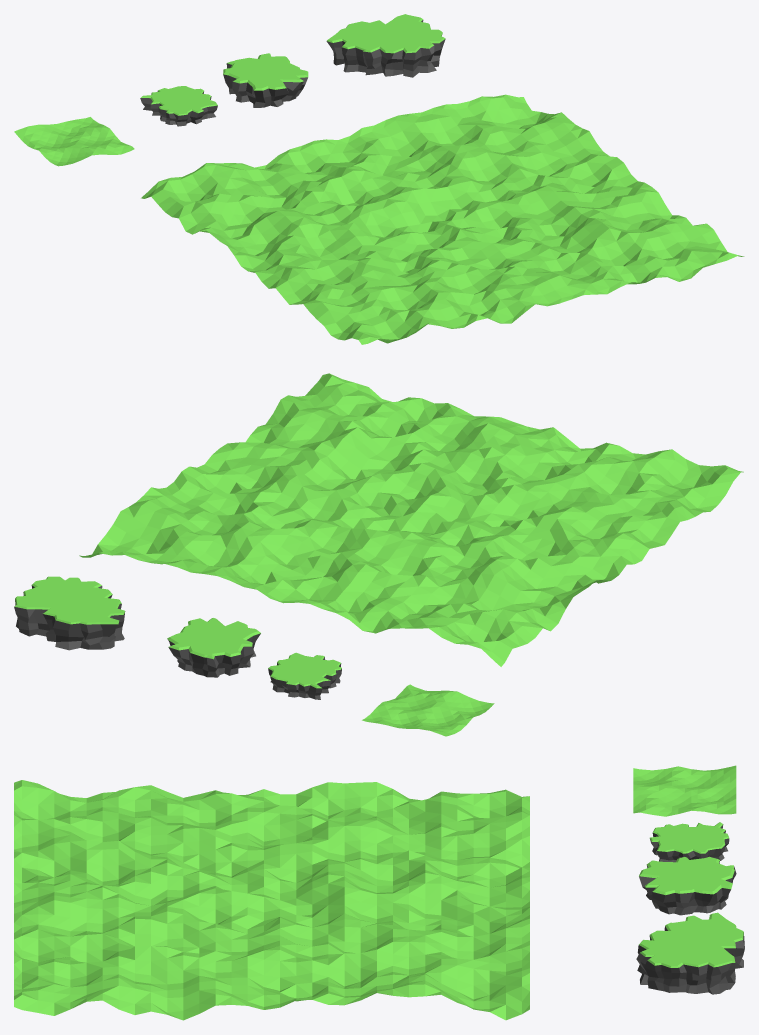
Rendered from Terrain.fbx.
The picture shows the model from 3 angles, top to bottom: view 1: azimuth 30°, elevation 25°; view 2: azimuth 150°, elevation 25°; view 3: azimuth 270°, elevation 25°; orthographic projection. The views are drawn at different scales.
Parts seen in each view (by area): view 1: Plane, Cliff3, Plane.001, Cliff2, Cliff1; view 2: Plane, Cliff3, Cliff2, Plane.001, Cliff1; view 3: Plane, Cliff3, Plane.001, Cliff2, Cliff1.
Boxes of the visible parts, <box> form: Plane: <box>141,94,744,344</box>; Cliff3: <box>326,14,445,77</box>; Plane.001: <box>14,117,134,166</box>; Cliff2: <box>223,53,308,107</box>; Cliff1: <box>140,86,217,126</box>; Plane: <box>79,373,743,666</box>; Cliff3: <box>14,576,125,650</box>; Cliff2: <box>167,618,260,677</box>; Plane.001: <box>362,684,494,736</box>; Cliff1: <box>268,652,341,699</box>; Plane: <box>14,780,529,1020</box>; Cliff3: <box>636,912,744,994</box>; Plane.001: <box>633,765,736,816</box>; Cliff2: <box>639,856,736,915</box>; Cliff1: <box>649,822,729,862</box>.
Bounding box in the file's own units: 1100 × 94.96 × 1417.
